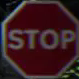Stop: (2, 0, 75, 72)
